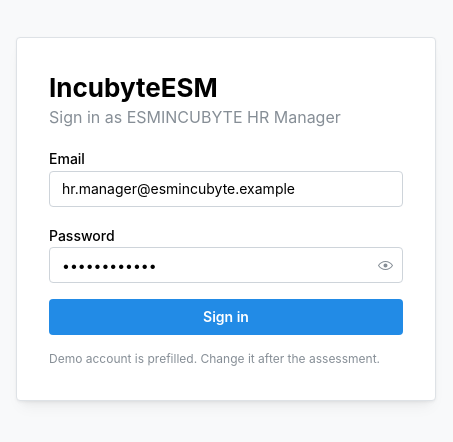
Test: requires email and password
Clear the field labelled "Email". click: x=226, y=188
box: [49,170,403,206]
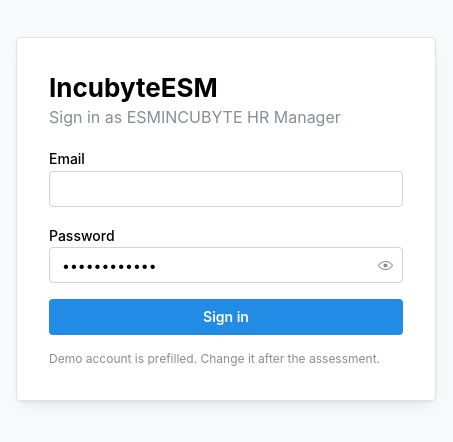
Clear the password field labelled "Password". click: x=226, y=265
box: [50,248,402,282]
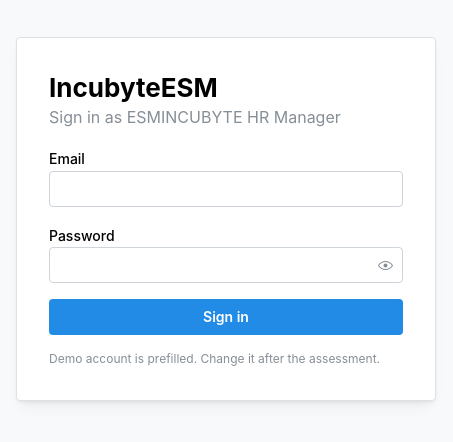
Click the button "Sign in". click: x=226, y=317
box: [49,299,403,335]
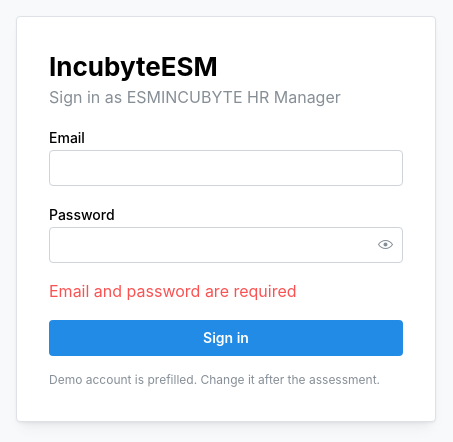
Expected: the text "Email and password are required" is shown, [49,281,297,301]
